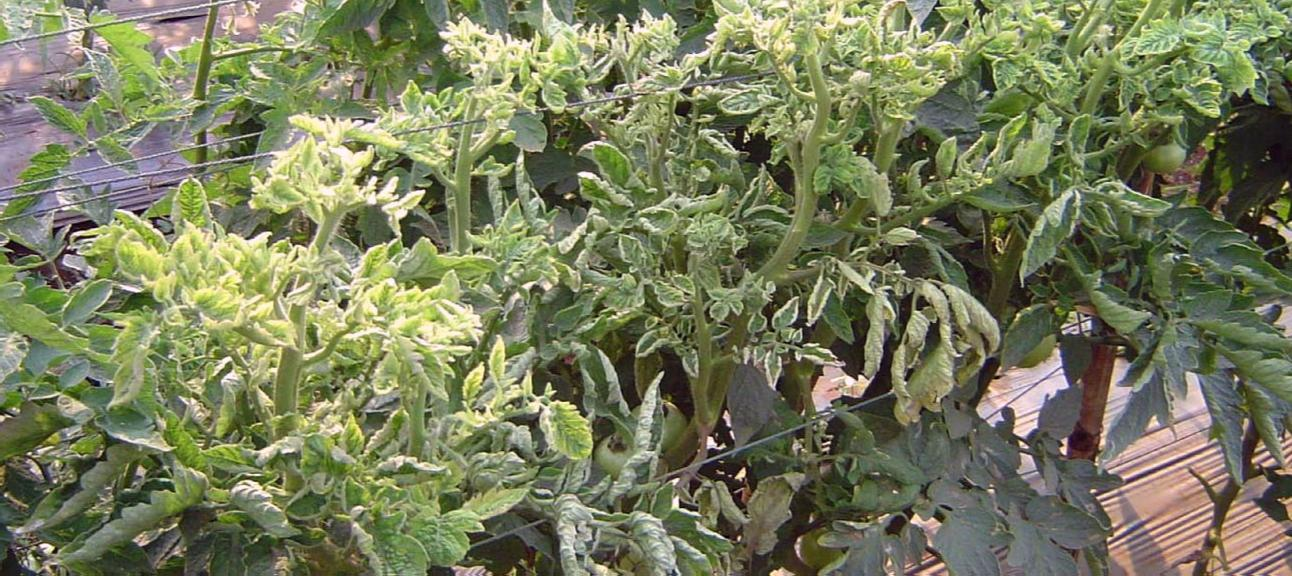Tomato leaf yellow virus: (803, 132, 900, 212), (1017, 191, 1083, 283), (347, 512, 440, 576), (541, 397, 595, 458), (403, 293, 447, 360), (585, 144, 641, 195), (123, 231, 169, 290), (1156, 83, 1232, 118), (196, 238, 229, 317), (771, 295, 811, 360), (631, 205, 689, 239), (343, 284, 378, 334), (644, 279, 689, 316), (634, 331, 668, 362), (682, 333, 697, 398), (708, 297, 730, 329), (742, 310, 761, 346), (272, 257, 294, 284)
